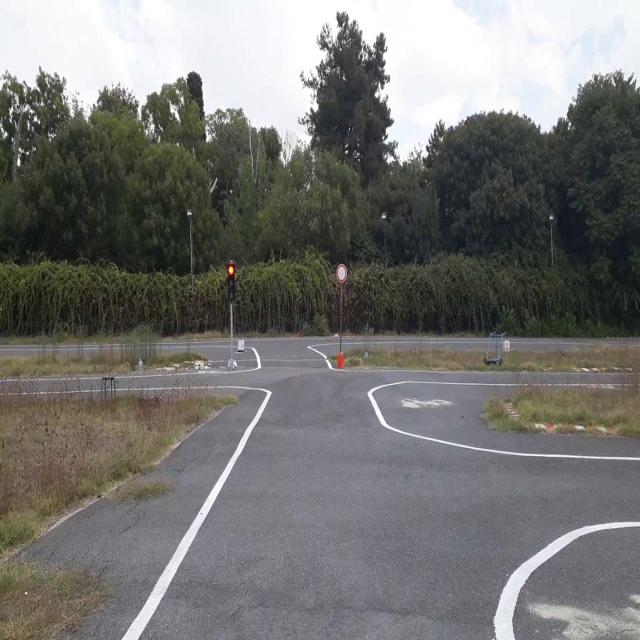kirmizi: (228, 265, 235, 299)
